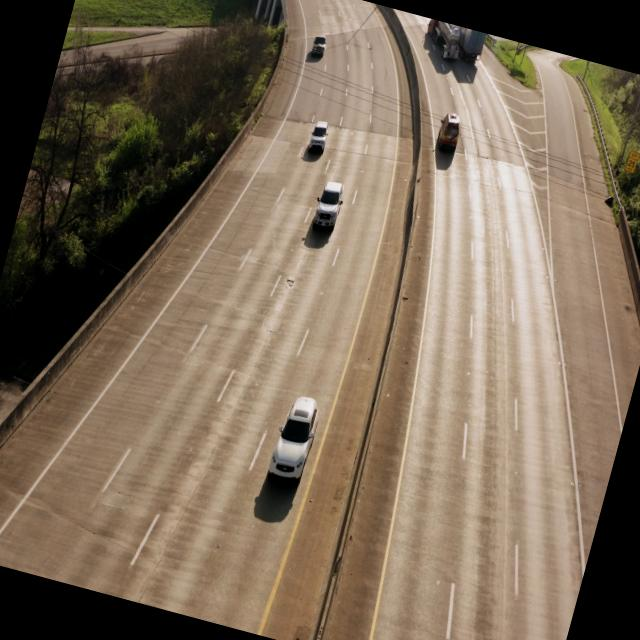Vehicle: (265, 386, 327, 492), (306, 175, 348, 242), (420, 18, 466, 66), (433, 106, 468, 158), (302, 115, 333, 164), (308, 32, 330, 64)
